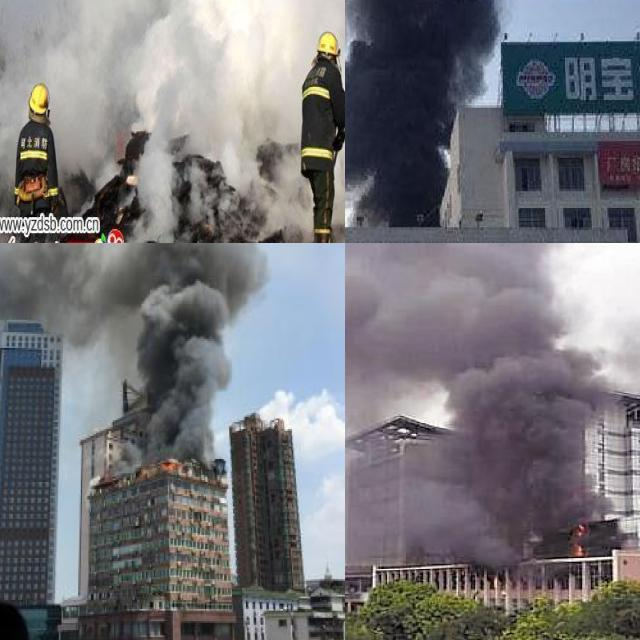fire: (143, 454, 182, 476), (566, 524, 588, 554)
smoke: (345, 243, 640, 565), (0, 243, 267, 449), (345, 0, 496, 227), (157, 0, 292, 155), (48, 0, 140, 156)
